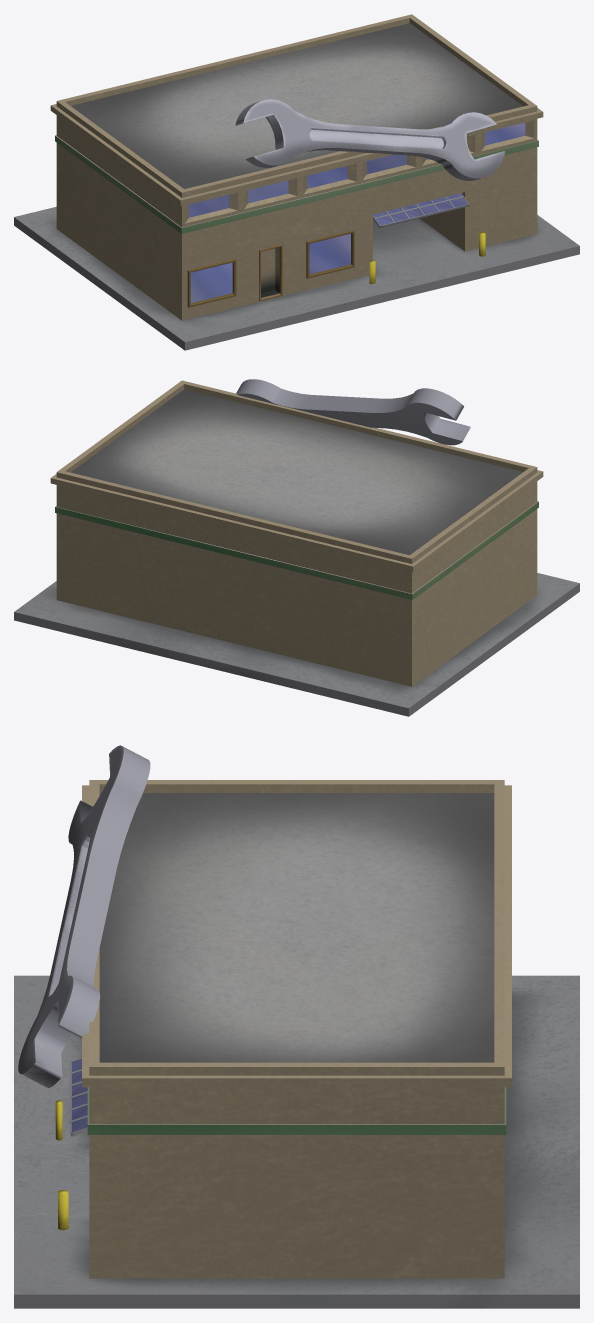
File: Mechanic.fbx
3 renders of one model, top to bottom at view 1: azimuth 30°, elevation 25°; view 2: azimuth 150°, elevation 25°; view 3: azimuth 270°, elevation 25°, orthographic. The views are drawn at different scales.
Parts seen in each view (by area): view 1: MechanicBuilding, MechanicLot, Wrench, MechanicDoor; view 2: MechanicBuilding, MechanicLot, Wrench; view 3: MechanicBuilding, MechanicLot, Wrench, MechanicDoor.
Boxes of the visible parts, x1=… form: MechanicBuilding: x1=50, y1=14, x2=543, y2=320; MechanicLot: x1=14, y1=206, x2=579, y2=350; Wrench: x1=235, y1=99, x2=504, y2=180; MechanicDoor: x1=373, y1=193, x2=469, y2=227; MechanicBuilding: x1=50, y1=380, x2=543, y2=686; MechanicLot: x1=14, y1=573, x2=579, y2=716; Wrench: x1=236, y1=379, x2=470, y2=445; MechanicBuilding: x1=82, y1=780, x2=511, y2=1278; MechanicLot: x1=14, y1=975, x2=579, y2=1308; Wrench: x1=18, y1=745, x2=150, y2=1087; MechanicDoor: x1=70, y1=1057, x2=87, y2=1136.
Bounding box in the file's own units: 2000 × 962 × 1500.
